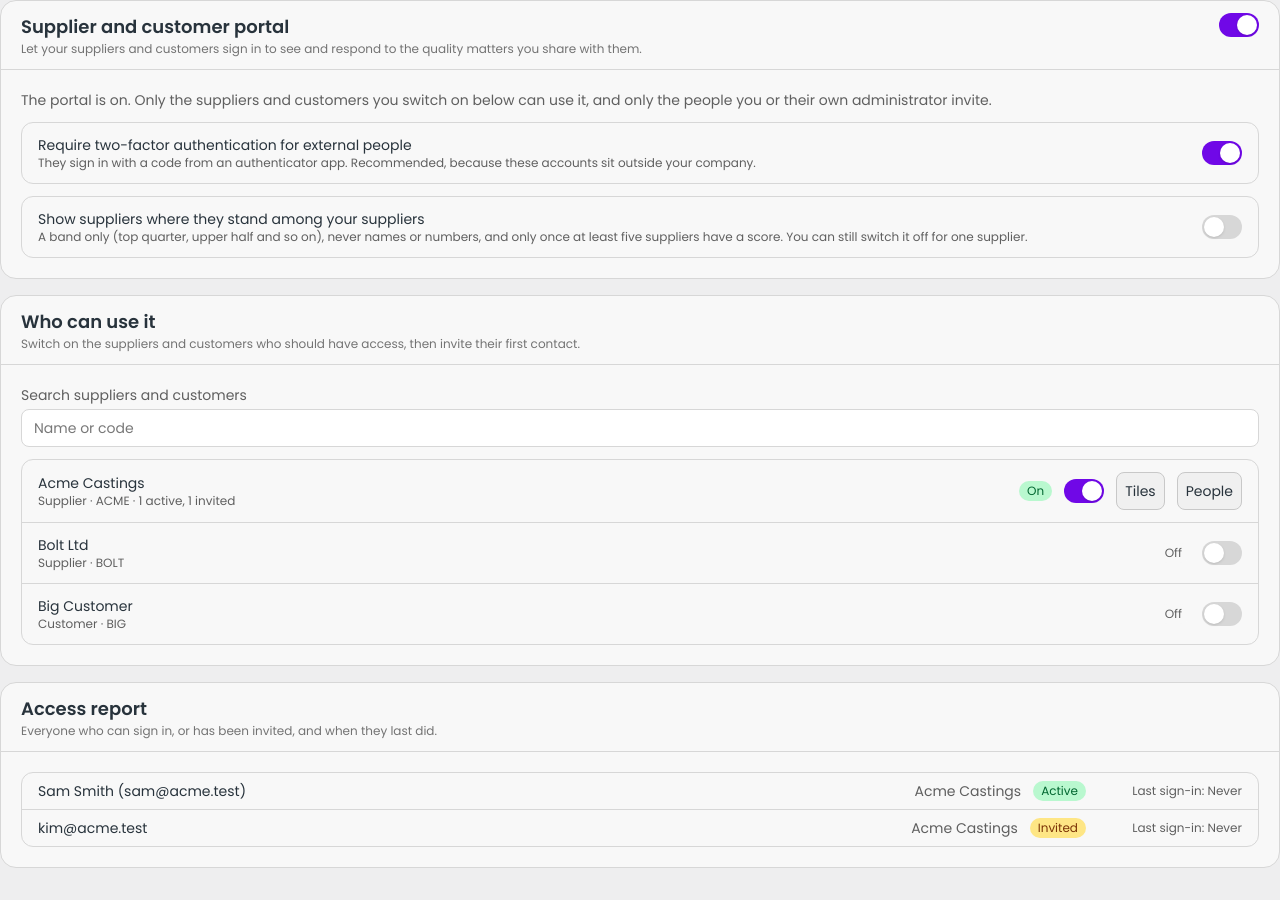
it: Settings → External access › invites someone from the party's people dialog, as an admin first
Later steps or results of the test are not shown.
Click the button with aria-label "People at Acme Castings": coordinates (1209, 491) [1177,472,1242,510]
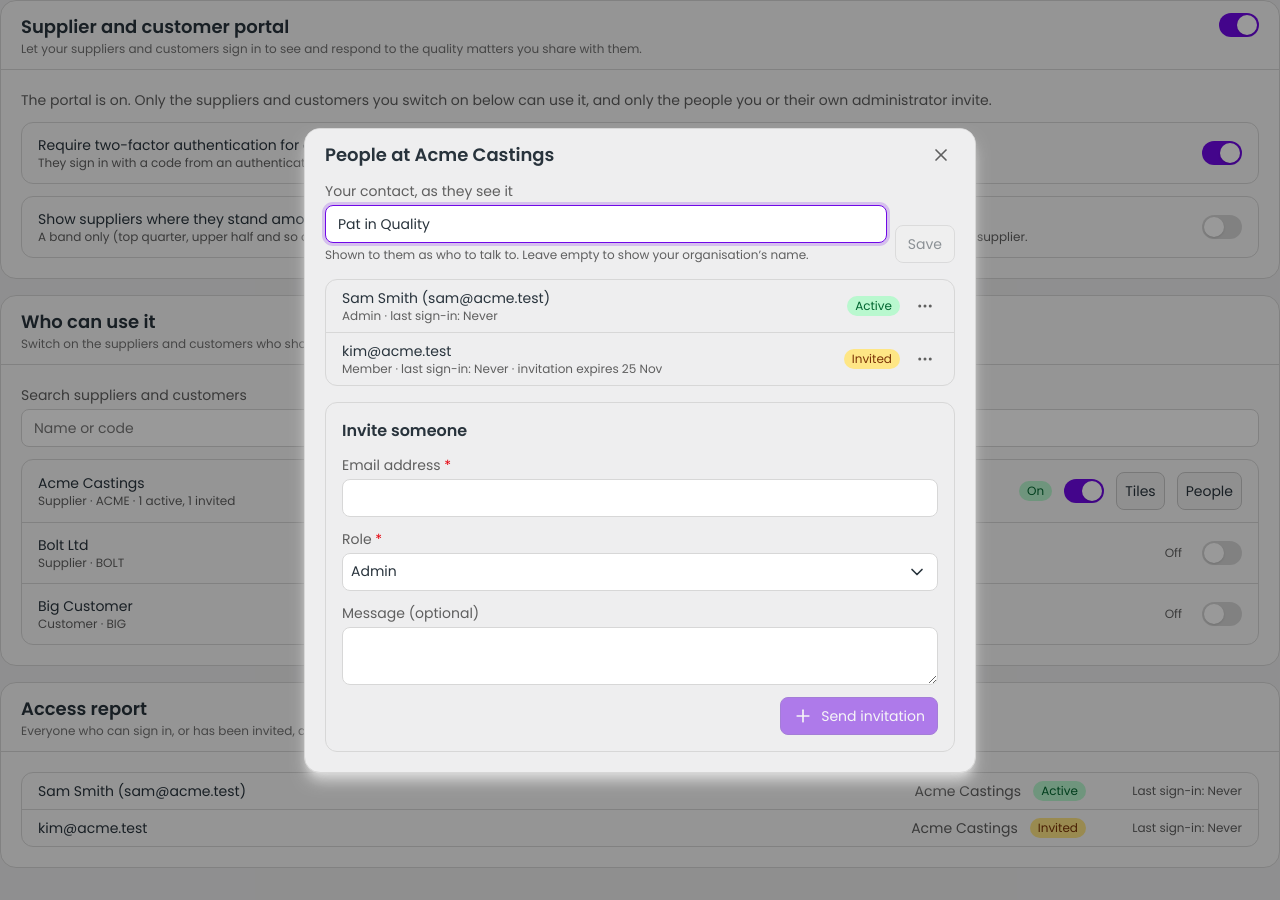
Expected: the text "Sam Smith (sam@acme.test)" is shown, [342,288,550,308]
